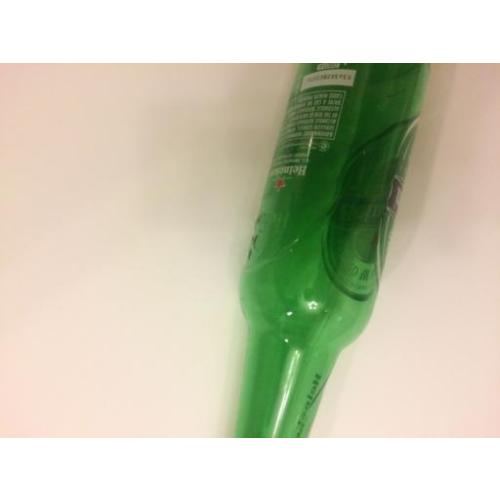glass: (238, 65, 430, 441)
